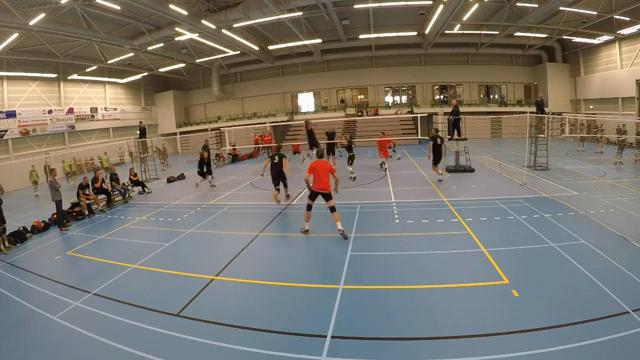attacco: (297, 113, 325, 164)
